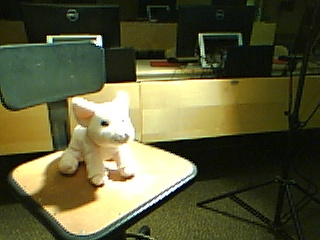piggy: (56, 90, 140, 188)
